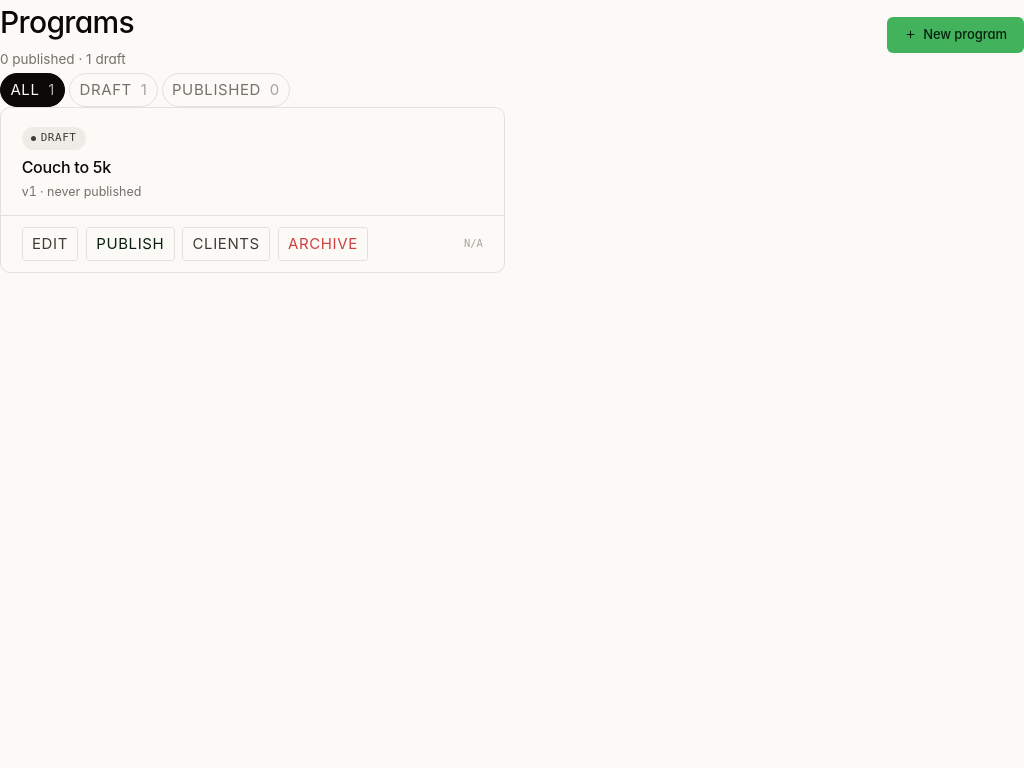
it: Programs when the plan refuses a publish › never carries a publish refusal into the builder
The width and height of the screenshot is (1024, 768).
Click the button "Publish" at (130,244), box [86,227,175,261]
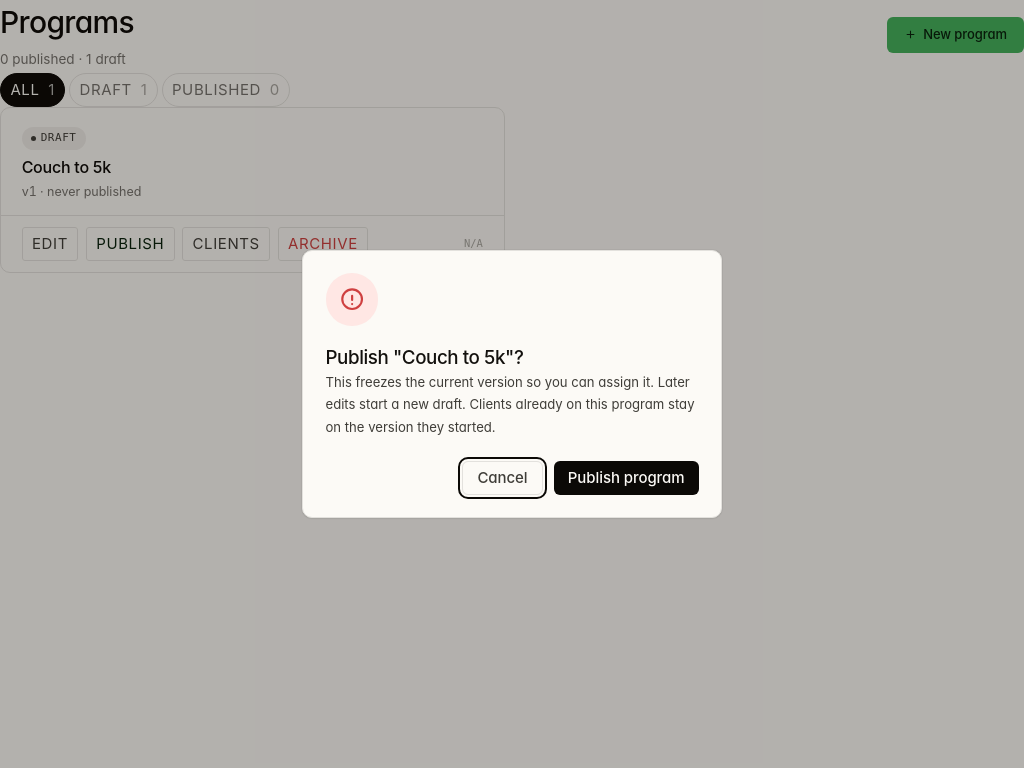
Click the button "Publish program" at (626,478), box [554,461,698,495]
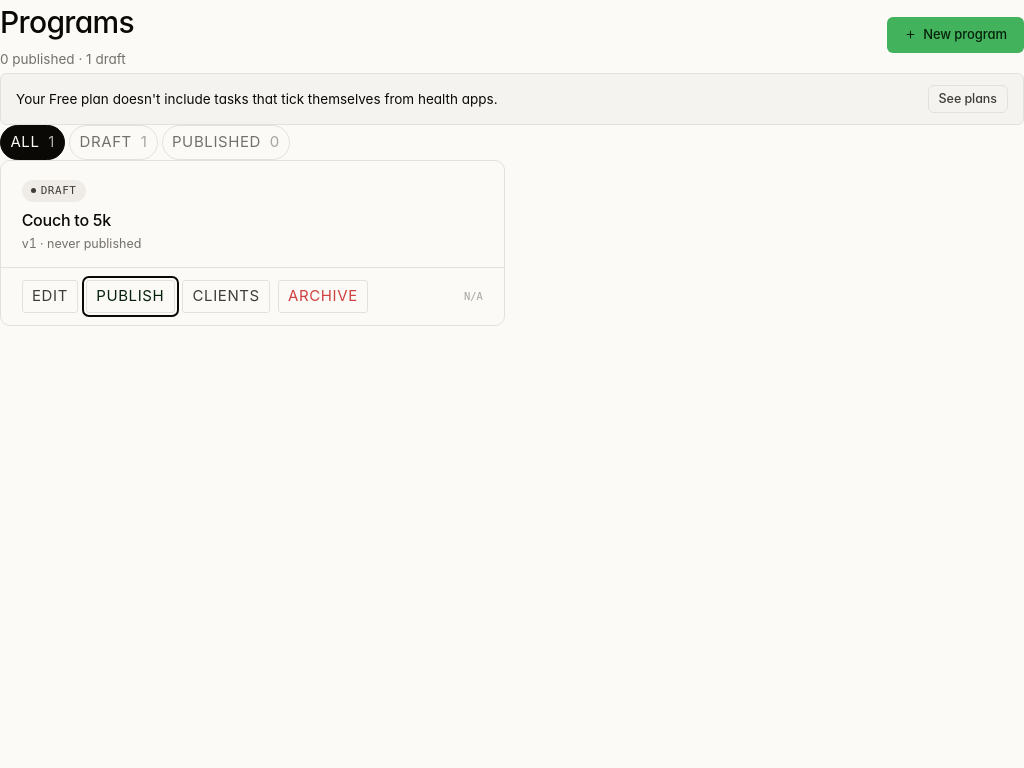
Check: the message with test id "plan-gate" is shown, box [0,73,1023,125]
Click the button "New program" at (956,34), box [887,16,1023,52]
(page scrolled)
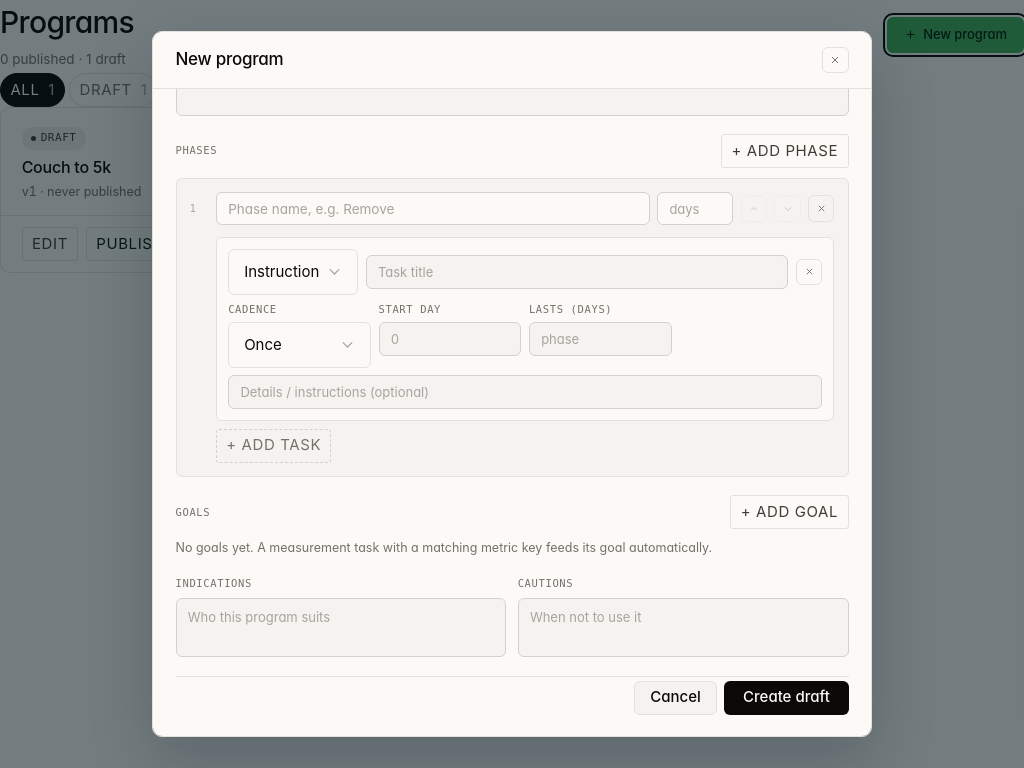
Check: the button "Create draft" is shown, box [724,681,848,715]
Check: the message with test id "plan-gate" is gone
